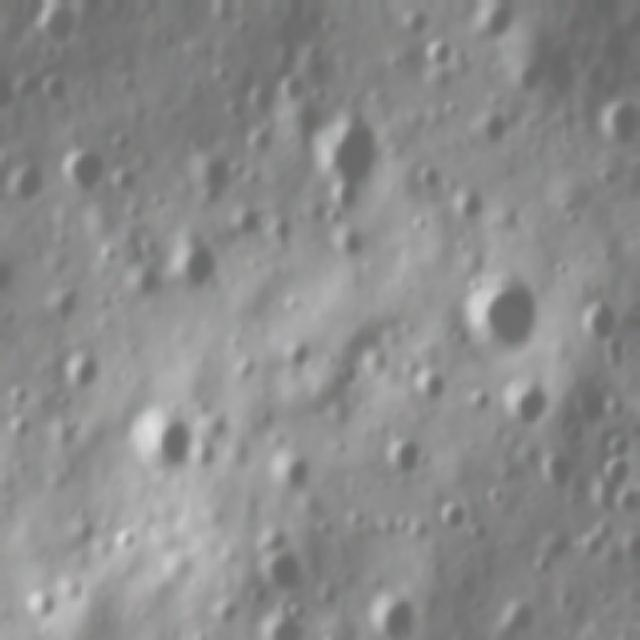crater: (450, 259, 544, 356), (310, 112, 382, 199), (132, 395, 206, 477), (186, 140, 240, 214), (502, 373, 562, 435), (254, 536, 320, 592), (368, 582, 434, 636), (171, 234, 224, 295), (593, 89, 635, 154), (381, 427, 427, 485), (269, 446, 320, 496), (65, 142, 113, 193), (594, 452, 635, 510), (580, 296, 622, 350), (532, 448, 580, 495), (491, 594, 547, 634), (59, 341, 106, 388), (408, 365, 458, 409), (418, 32, 468, 72), (473, 105, 516, 150), (7, 158, 48, 204), (332, 218, 380, 257), (578, 511, 614, 562), (28, 582, 66, 628), (262, 209, 300, 253), (39, 63, 79, 103), (455, 185, 494, 224), (332, 351, 374, 387), (244, 122, 278, 161), (532, 542, 562, 583), (281, 65, 313, 103), (413, 157, 447, 192), (284, 332, 311, 370), (248, 82, 278, 115)
